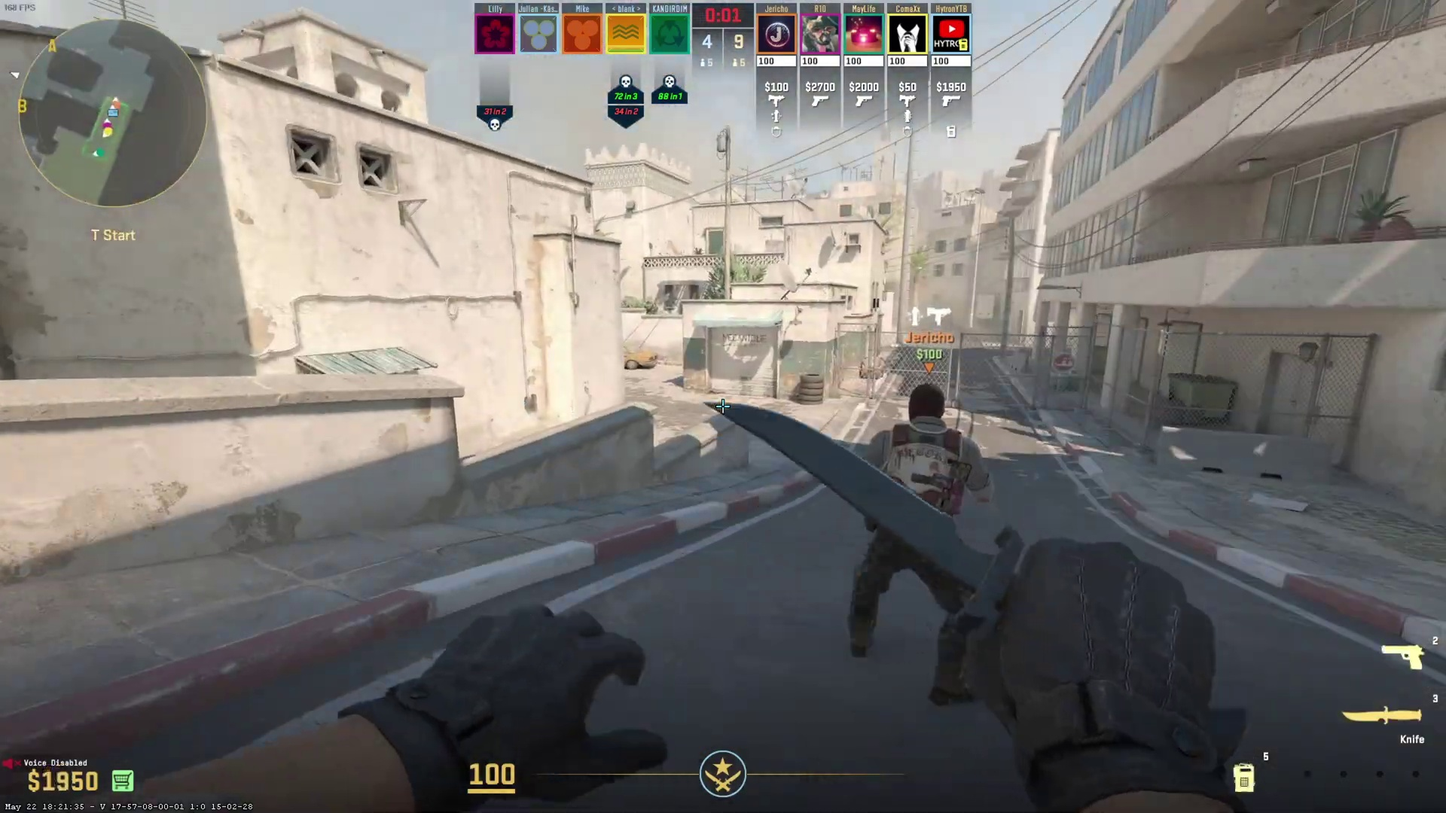Terrorist: (843, 385, 988, 699)
